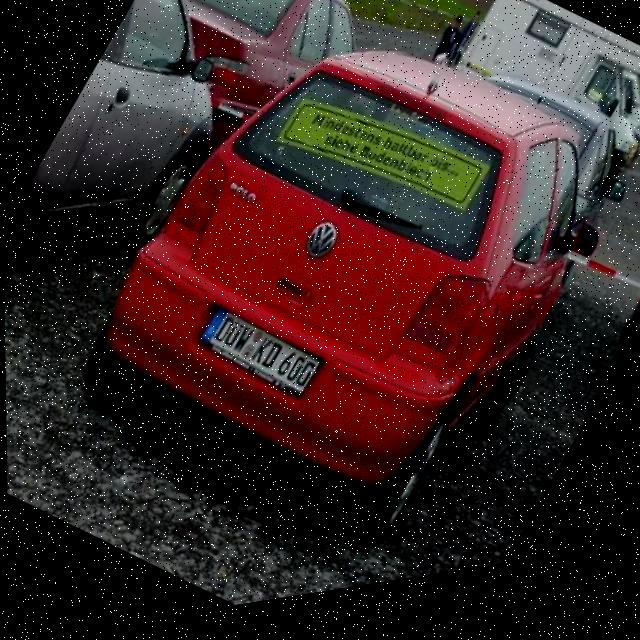license_plate: (192, 300, 322, 422)
